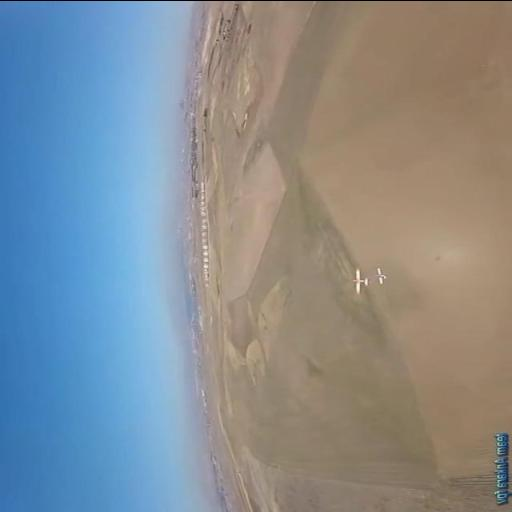uav: (353, 268, 369, 292), (376, 266, 390, 284)
